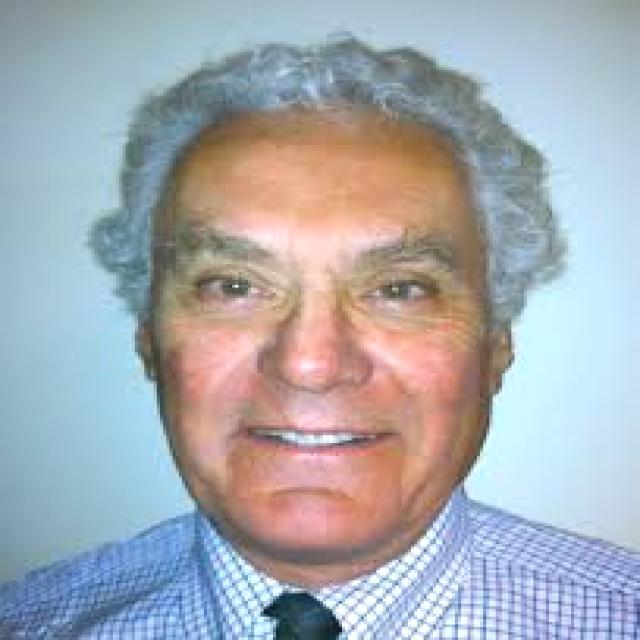normal_face: (88, 44, 552, 564)
